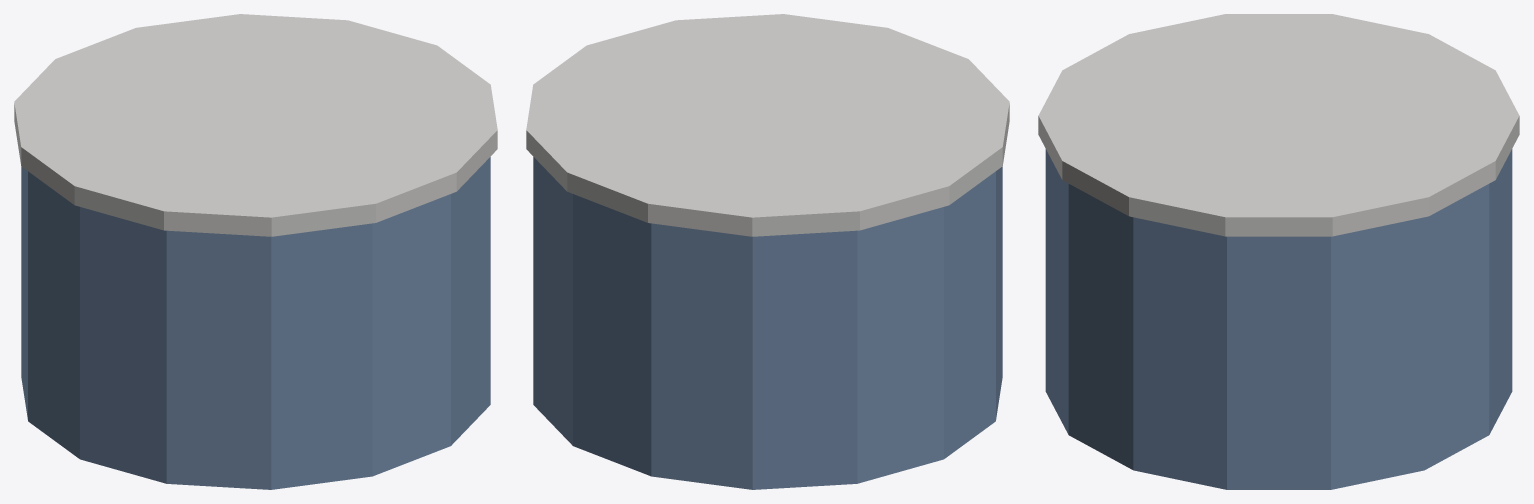
Rendered from drum.glb.
3 renders of one model, left to right at view 1: azimuth 30°, elevation 25°; view 2: azimuth 150°, elevation 25°; view 3: azimuth 270°, elevation 25°, orthographic.
Visible parts, largest first — view 1: drum; view 2: drum; view 3: drum.
Part boxes in pixels (<box>): drum: <box>14,14,497,489</box>; drum: <box>526,14,1009,489</box>; drum: <box>1038,14,1519,489</box>.
Size of the model in its own units: 0.68 by 0.43 by 0.68.
